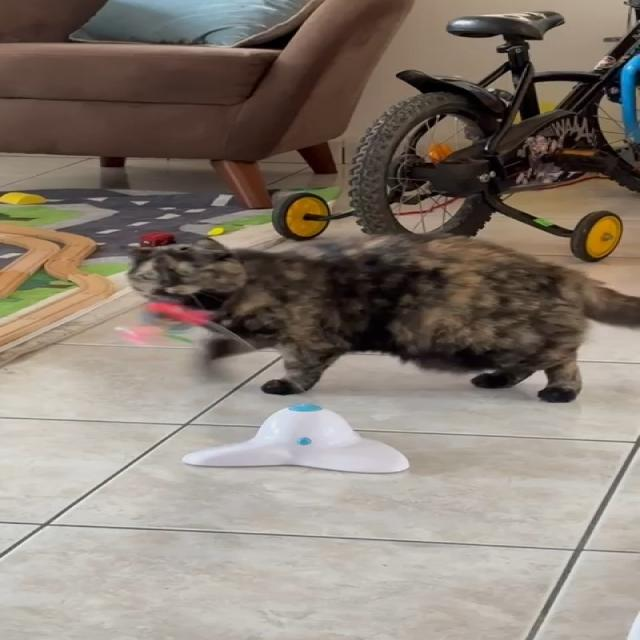authorized: (125, 231, 639, 403)
